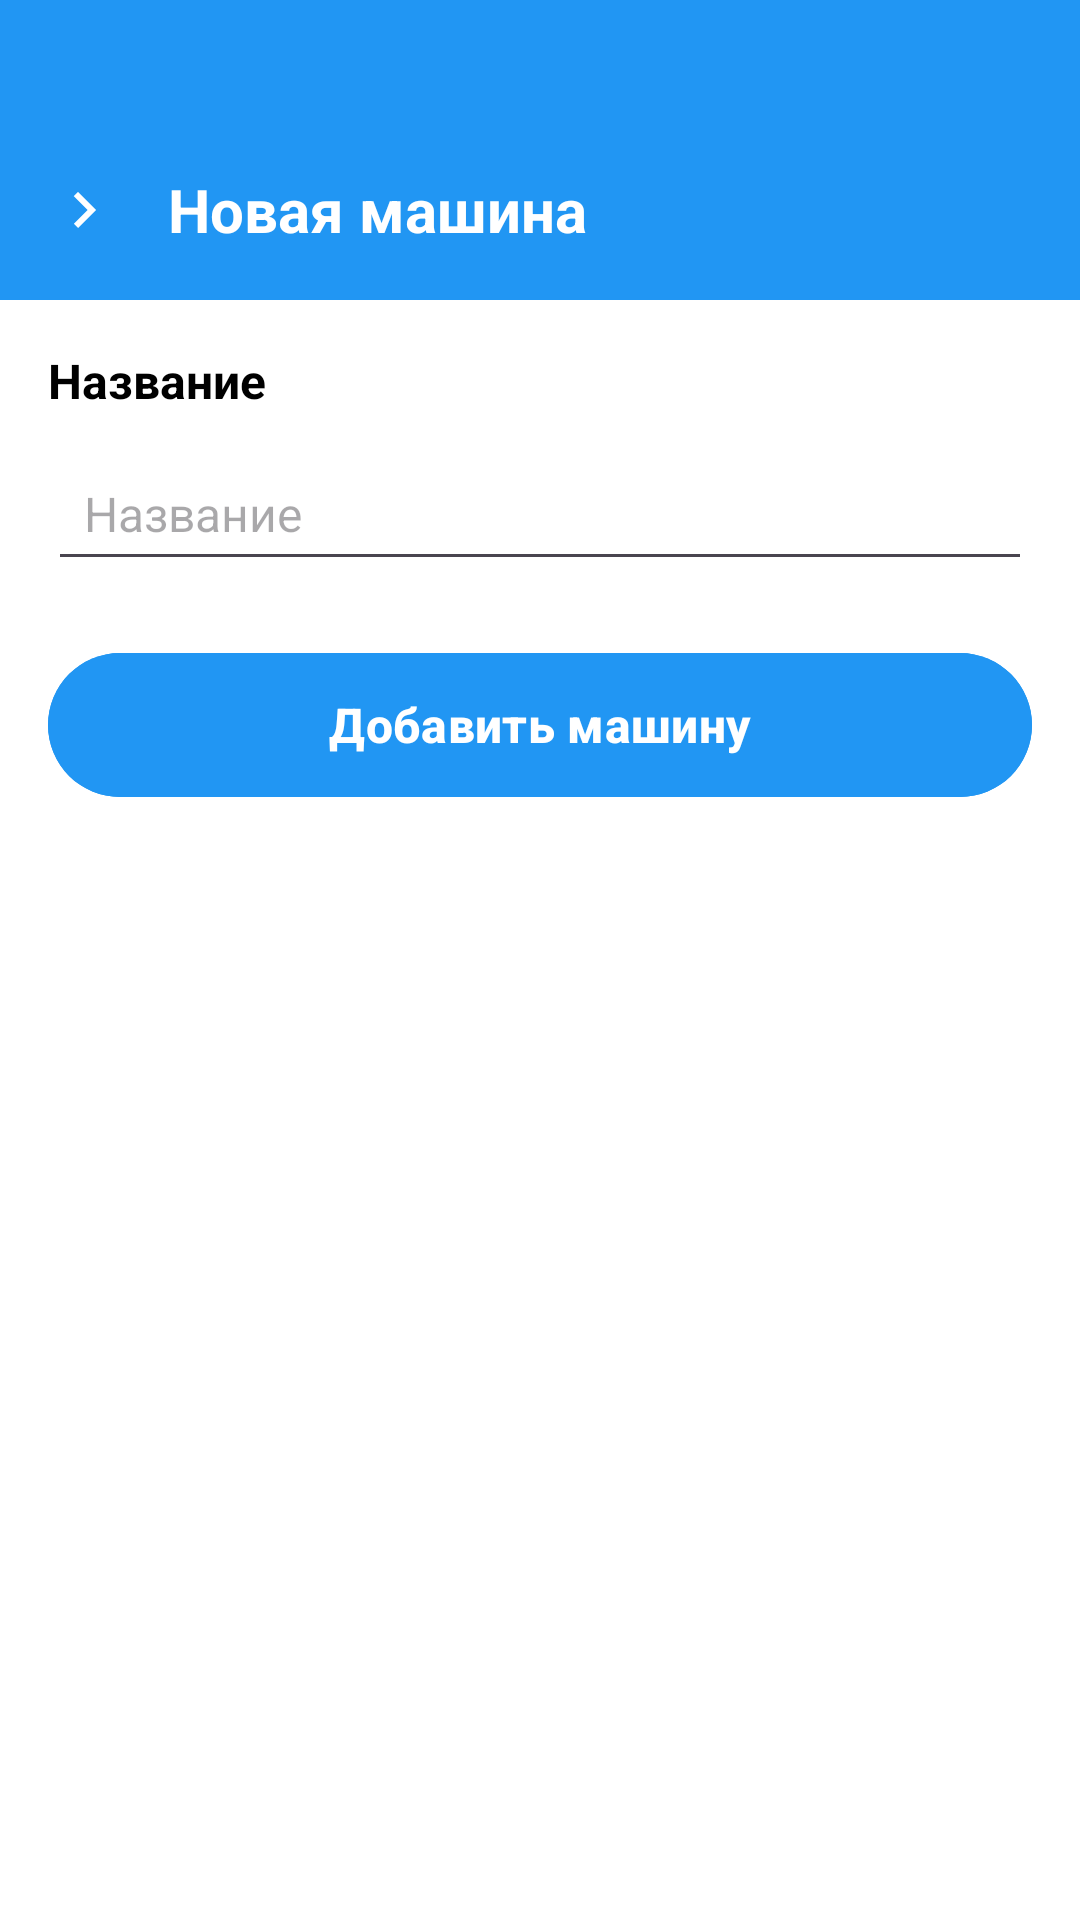

Named icons in this screenshot (1080*1920) and their centers, point (x, y):
arrow right: point (85, 210)
